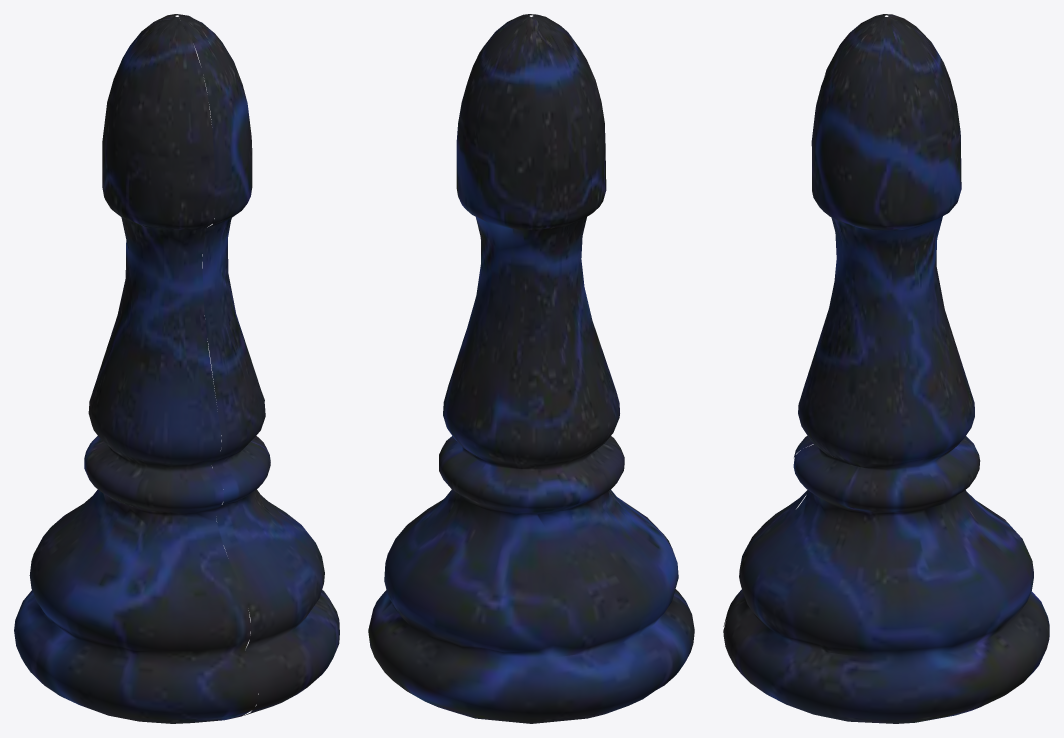
Rendered from cobalt_vein_black_queen.glb.
The picture shows the model from 3 angles, left to right: view 1: azimuth 30°, elevation 25°; view 2: azimuth 150°, elevation 25°; view 3: azimuth 270°, elevation 25°; orthographic projection.
Visible parts, largest first — view 1: Cobalt Vein black queen; view 2: Cobalt Vein black queen; view 3: Cobalt Vein black queen.
Boxes of the visible parts, box(x1,y1,x2,y2) form: Cobalt Vein black queen: box(14, 14, 339, 723); Cobalt Vein black queen: box(368, 14, 694, 723); Cobalt Vein black queen: box(723, 14, 1049, 723).
Size of the model in its own units: 0.0378 by 0.0839 by 0.0379.
Materials: 1 (1 with a texture image).
